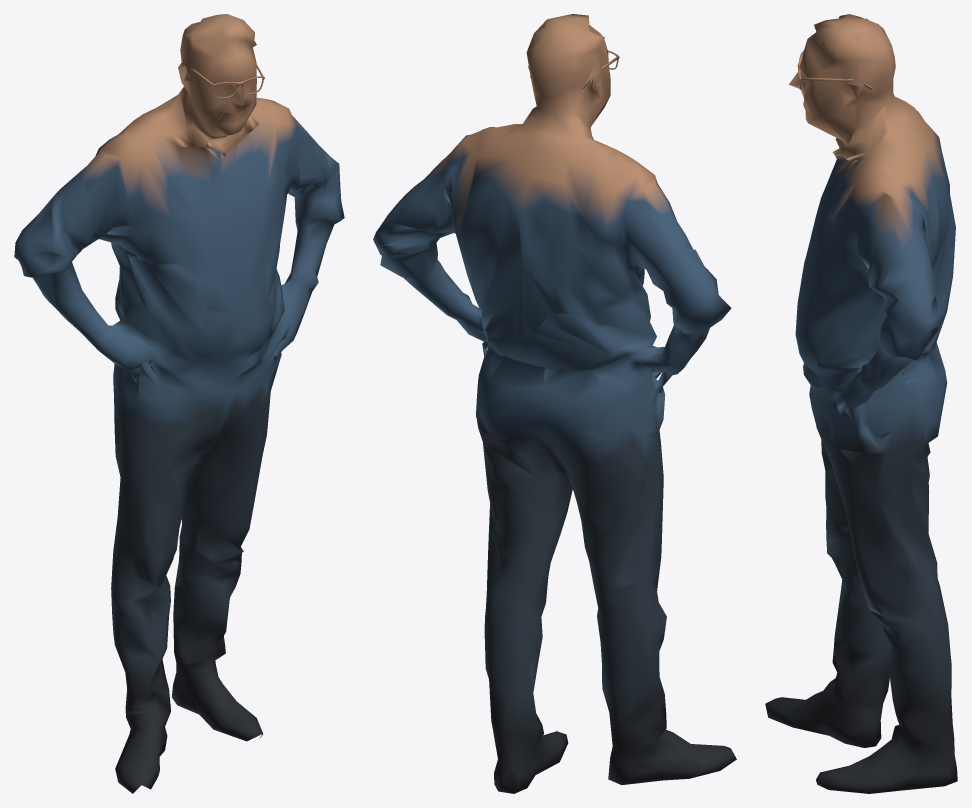
File: people_typ3_stand.glb
3 views of the same model, side by side, from view 1: azimuth 30°, elevation 25°; view 2: azimuth 150°, elevation 25°; view 3: azimuth 270°, elevation 25° (orthographic). The views are drawn at different scales.
Visible parts, largest first — view 1: people_typ3_stand-mesh; view 2: people_typ3_stand-mesh; view 3: people_typ3_stand-mesh.
Boxes of the visible parts, <box> form: people_typ3_stand-mesh: <box>14,14,344,793</box>; people_typ3_stand-mesh: <box>373,14,736,793</box>; people_typ3_stand-mesh: <box>765,14,957,793</box>.
Size of the model in its own units: 0.8617 by 1.8 by 0.4169.
